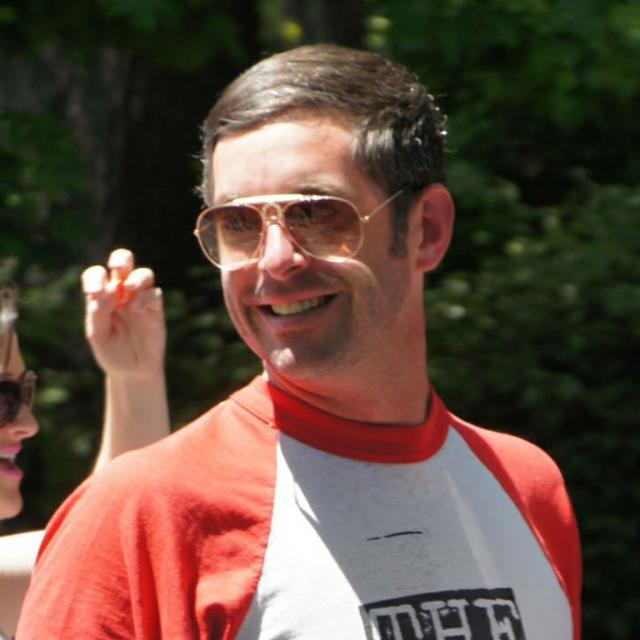Glasses: (190, 190, 401, 271)
